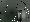person: (20, 11, 26, 22)
